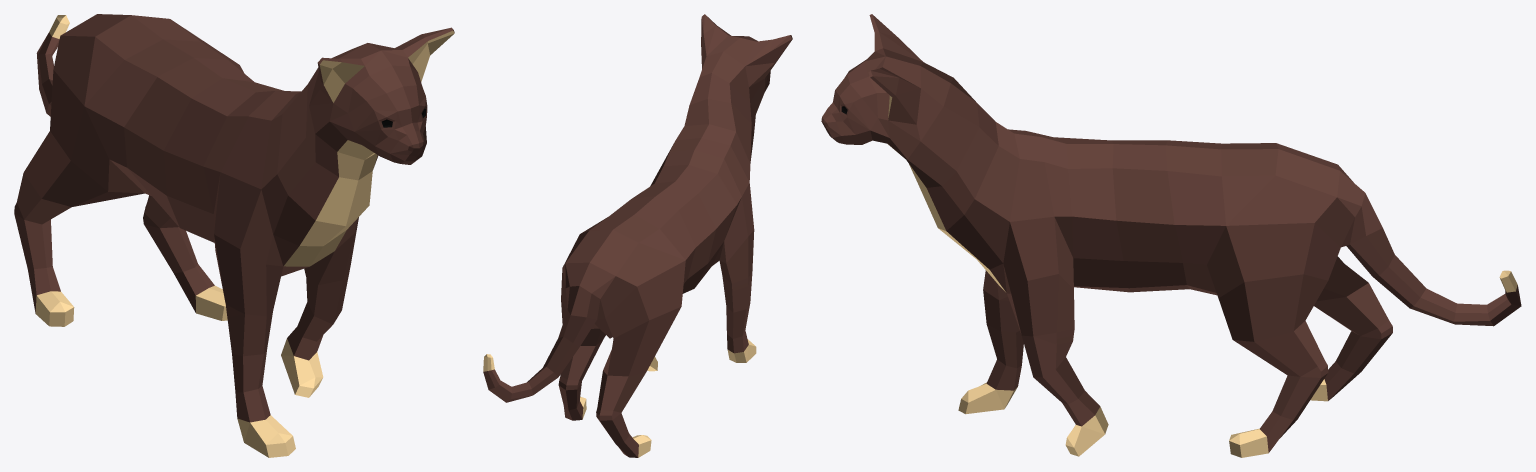
The model's file is Cat_2.FBX.
3 views of the same model, side by side, from view 1: azimuth 30°, elevation 25°; view 2: azimuth 150°, elevation 25°; view 3: azimuth 270°, elevation 25° (orthographic). The views are drawn at different scales.
Visible parts, largest first — view 1: Cat_2; view 2: Cat_2; view 3: Cat_2.
Boxes of the visible parts, x1=… form: Cat_2: x1=14, y1=14, x2=454, y2=457; Cat_2: x1=483, y1=14, x2=792, y2=457; Cat_2: x1=821, y1=14, x2=1521, y2=457.
Bounding box in the file's own units: 0.2566 × 0.6182 × 0.9874.
Materials: 1 (1 with a texture image).
